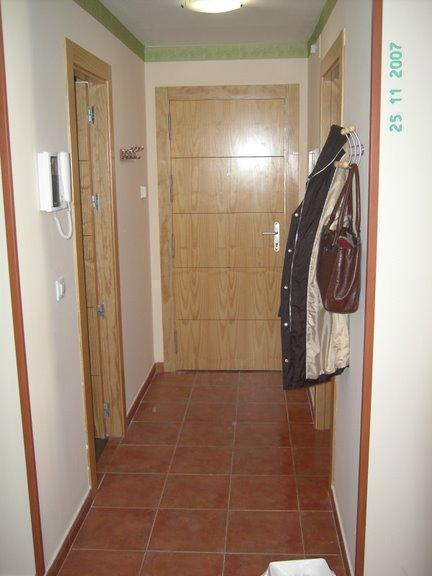Puerta: (157, 89, 295, 377), (73, 68, 145, 480)
